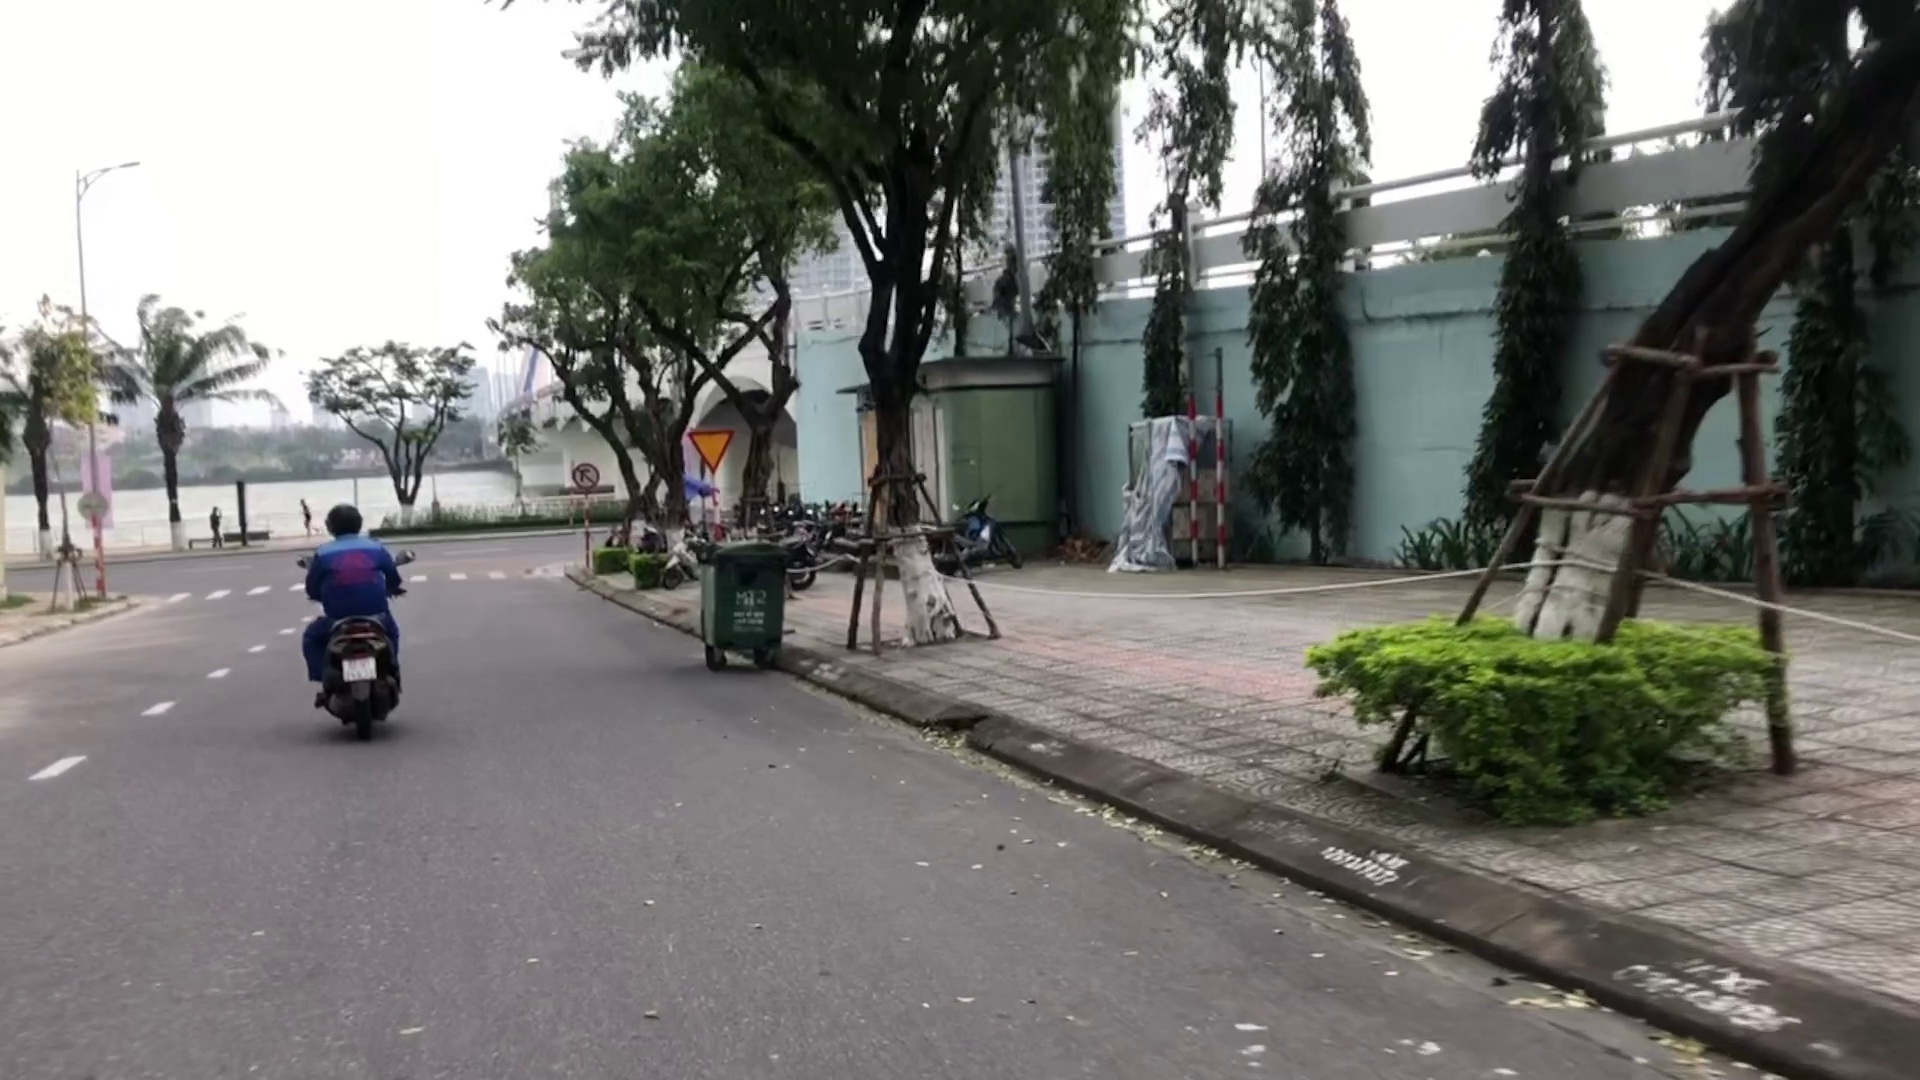Bien khac: (687, 426, 735, 477), (568, 463, 601, 492)
